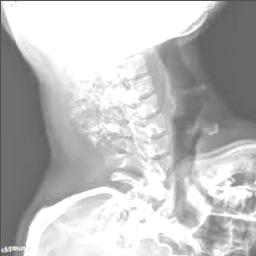cancer: (61, 50, 140, 151)
